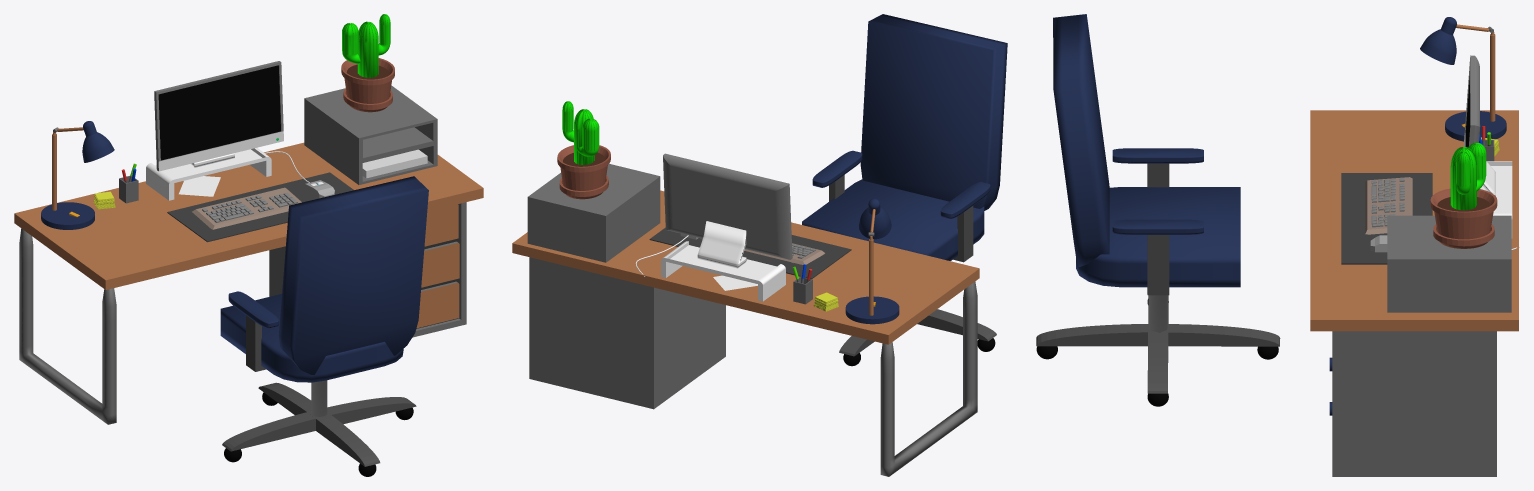
3 views of the same model, side by side, from view 1: azimuth 30°, elevation 25°; view 2: azimuth 150°, elevation 25°; view 3: azimuth 270°, elevation 25° (orthographic). The views are drawn at different scales.
Parts seen in each view (by area): view 1: Cube001, Cube007, Cube012, Plane002_2, Cube006, Cube008, Cube, Cube020_2, Cube021, Cube020_1, Cube010, Cylinder008_1 (+14 smaller); view 2: Cube001, Cube020_1, Cube007, Plane002_1, Cube012, Cube, Cube008, Cube010, Cube021, Cylinder008_1, Cube011, Cube006 (+7 smaller); view 3: Cube020_1, Cube007, Cube, Cube012, Cube001, Cube006, Cube021, Cylinder008_1, Cube014, Cube004, Cube005, Cube003 (+10 smaller).
Part boxes in pixels (x1,y1,x2,y2): Cube001: (278,176,428,374); Cube007: (14,142,483,289); Cube012: (304,85,437,184); Plane002_2: (158,65,280,160); Cube006: (222,382,416,466); Cube008: (19,228,116,424); Cube: (220,294,403,382); Cube020_2: (416,204,459,328); Cube021: (167,172,353,242); Cube020_1: (269,202,466,337); Cube010: (146,148,271,200); Cylinder008_1: (341,58,394,112); Cube001: (860,14,1007,210); Cube020_1: (529,257,725,409); Cube007: (512,190,979,344); Plane002_1: (663,153,792,259); Cube012: (527,163,660,262); Cube: (802,179,984,260); Cube008: (880,281,977,476); Cube010: (661,241,785,301); Cube021: (649,227,851,279); Cylinder008_1: (557,145,610,199); Cube011: (697,221,746,268); Cube006: (839,309,996,356); Cube020_1: (1332,331,1496,476); Cube007: (1310,110,1518,331); Cube: (1076,187,1240,287); Cube012: (1387,215,1511,312); Cube001: (1053,14,1109,266); Cube006: (1036,295,1280,393); Cube021: (1341,173,1432,264); Cylinder008_1: (1430,188,1497,248); Cube014: (1365,177,1412,234); Cube004: (1112,148,1203,163); Cube005: (1112,219,1203,234); Cube003: (1147,235,1169,295).
Bounding box in the file's own units: 6.04 × 4.26 × 5.88.
